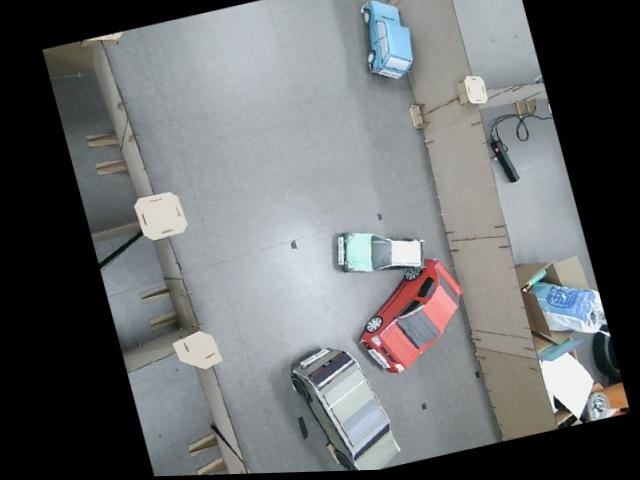car: (340, 250, 481, 378), (281, 335, 403, 472), (328, 215, 434, 286), (349, 0, 422, 84)
